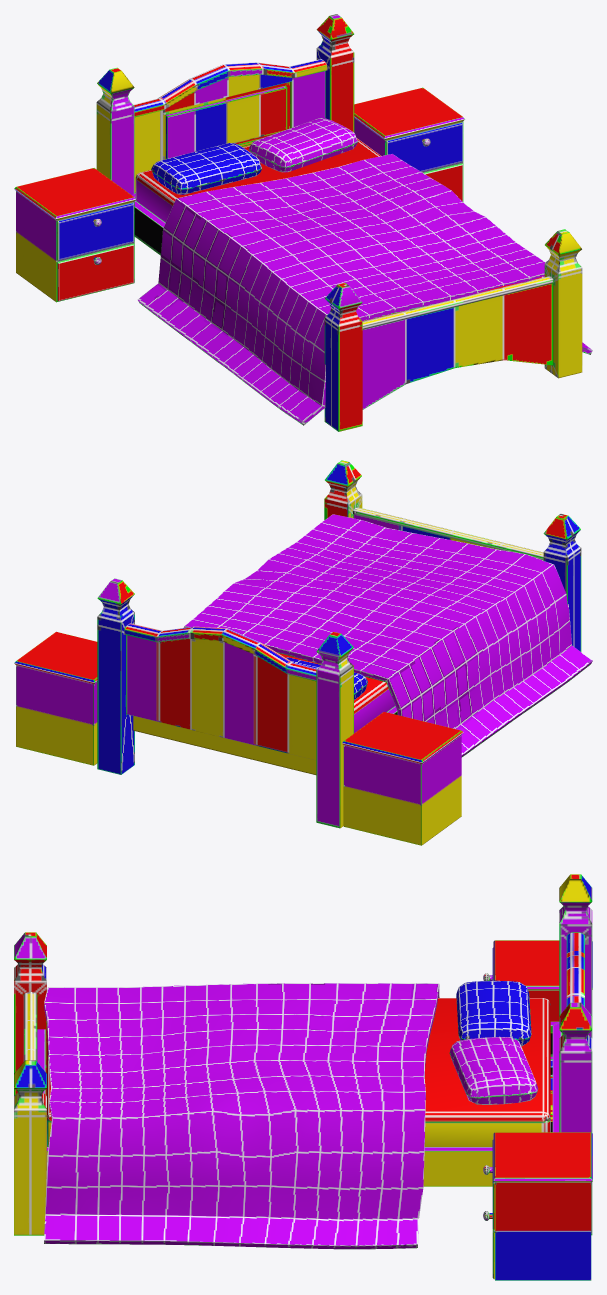
File: Bed1.fbx
The picture shows the model from 3 angles, top to bottom: view 1: azimuth 30°, elevation 25°; view 2: azimuth 150°, elevation 25°; view 3: azimuth 270°, elevation 25°; orthographic projection. The views are drawn at different scales.
Parts seen in each view (by area): view 1: Bed; view 2: Bed; view 3: Bed.
Boxes of the visible parts, left/top/right/bottom form: Bed: left=14, top=14, right=592, bottom=431; Bed: left=14, top=460, right=592, bottom=845; Bed: left=14, top=874, right=592, bottom=1280.
Size of the model in its own units: 206 by 90.67 by 211.
